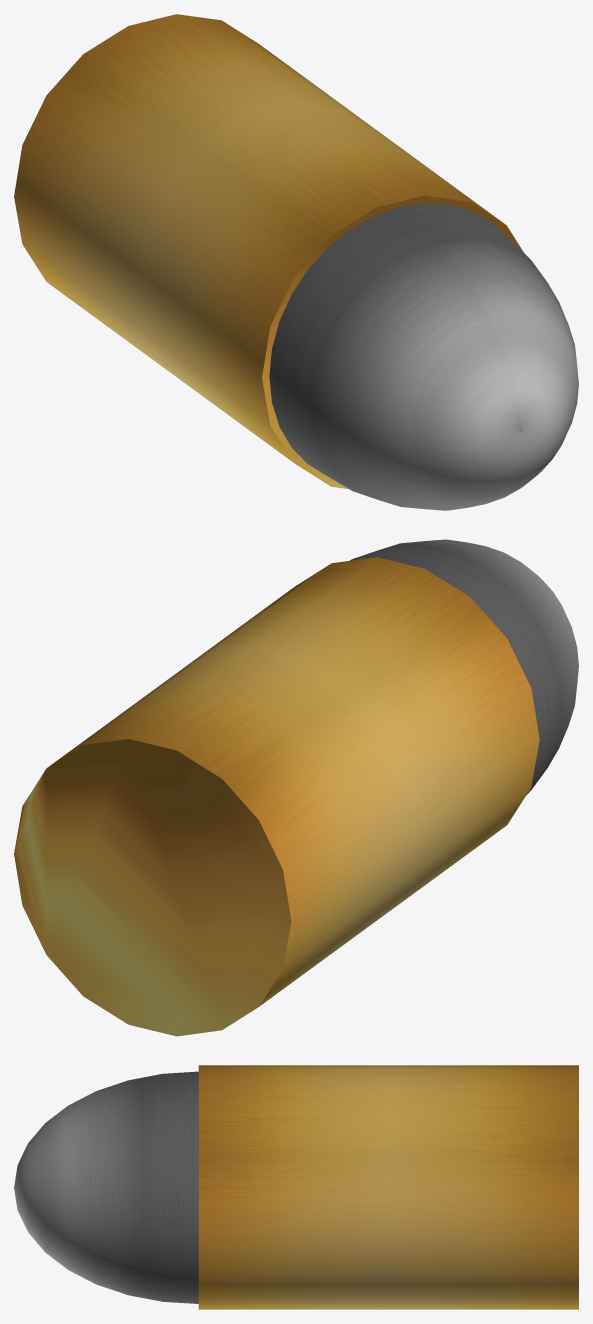
Rendered from bullet.FBX.
3 views of the same model, one above another, from view 1: azimuth 30°, elevation 25°; view 2: azimuth 150°, elevation 25°; view 3: azimuth 270°, elevation 25° (orthographic). The views are drawn at different scales.
Parts seen in each view (by area): view 1: Sphere001; view 2: Sphere001; view 3: Sphere001.
Boxes of the visible parts, x1,y1,x2,y2 form: Sphere001: (14,14,578,510); Sphere001: (14,539,578,1036); Sphere001: (14,1065,578,1309).
Bounding box in the file's own units: 18.07 × 17.8 × 41.62.
1 material, 1 textured.
